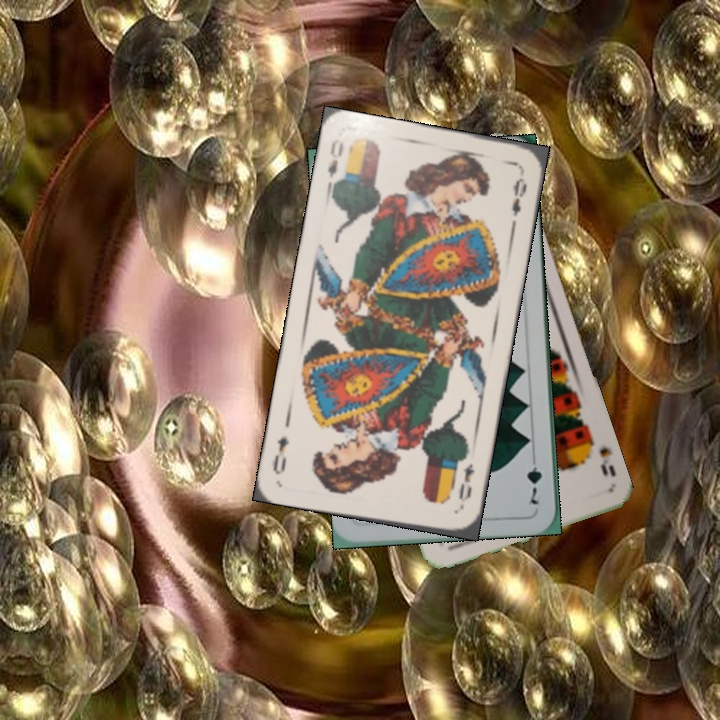EO: (323, 135, 346, 193), (454, 460, 478, 511)
G7: (523, 450, 544, 507)
S9: (581, 430, 618, 479)
